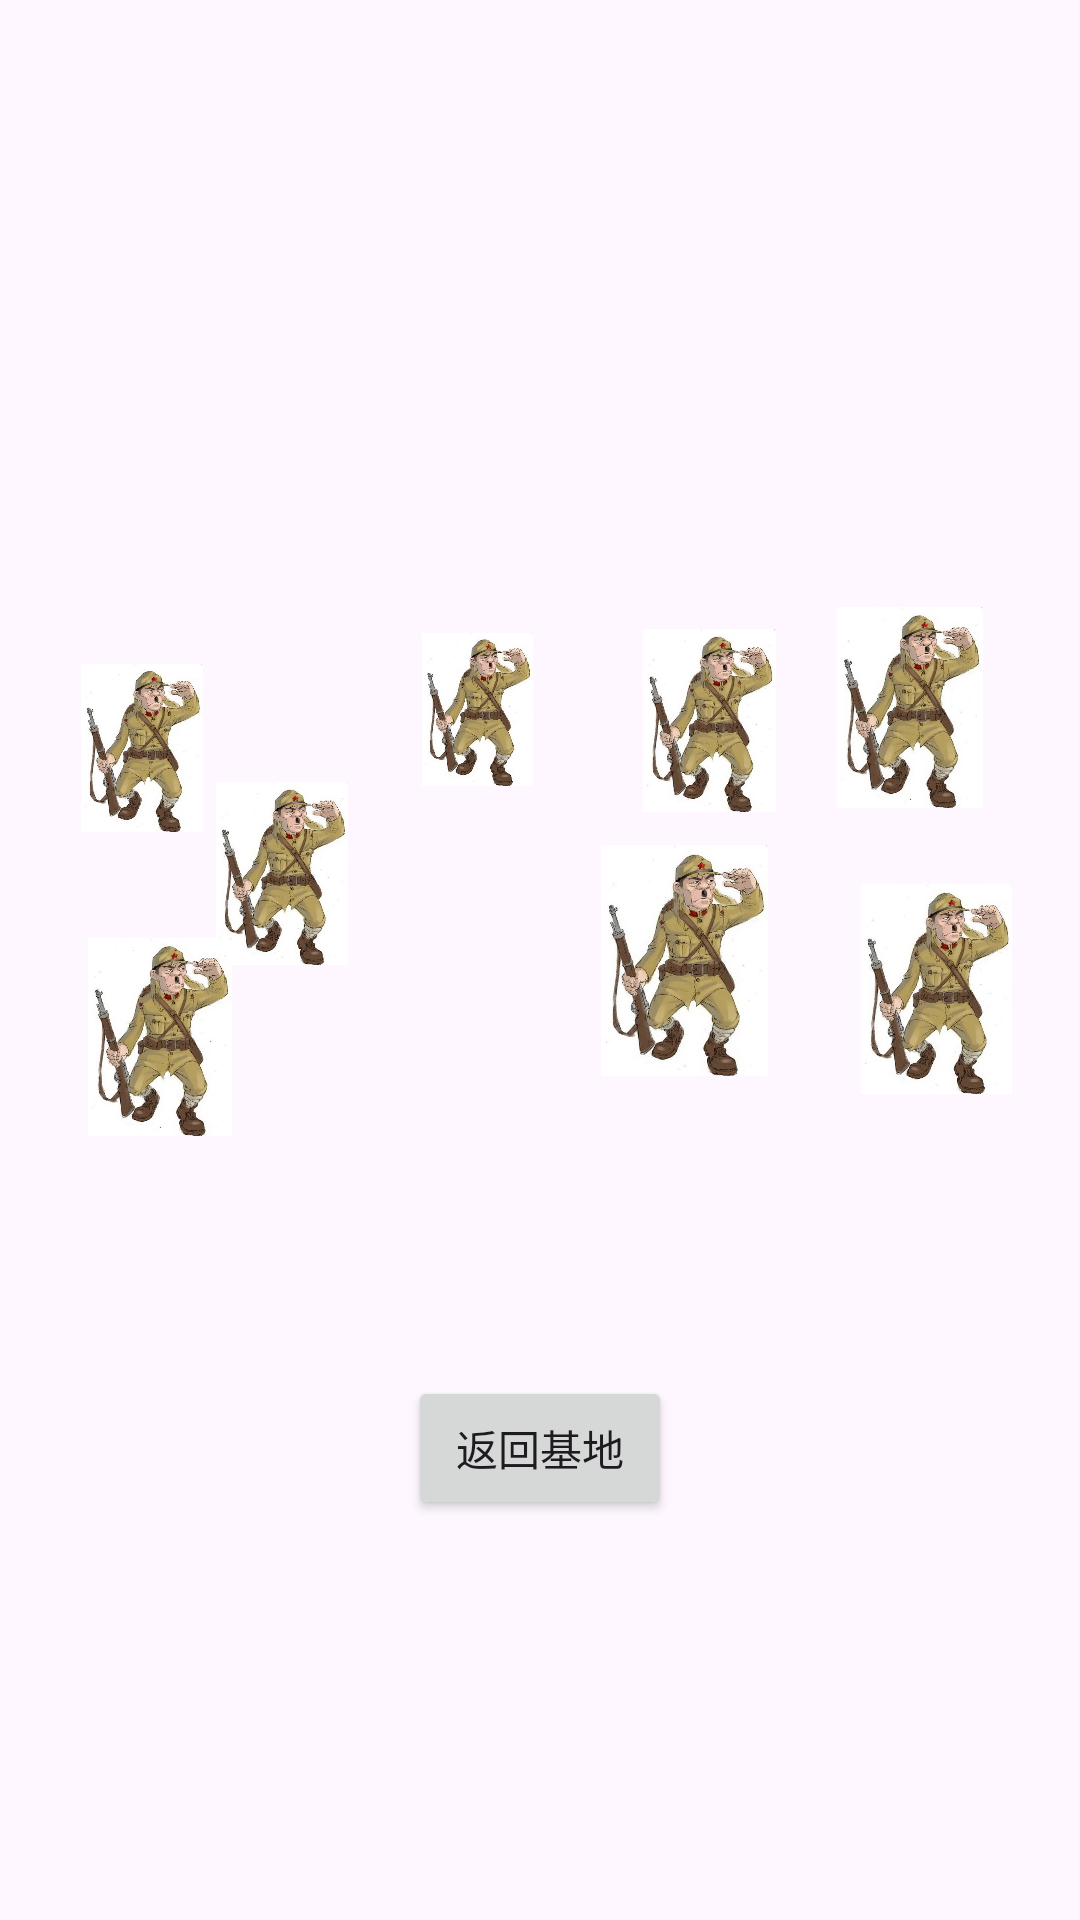

Locate icon controls on the screen. Image size 1080px x 1920px, boxes as bbox(x1, y1, x2, y2).
jap: bbox(844, 607, 982, 808), bbox(647, 629, 775, 812), bbox(427, 639, 530, 786), bbox(87, 664, 202, 832), bbox(222, 789, 345, 965), bbox(606, 845, 767, 1076), bbox(865, 893, 1009, 1094), bbox(95, 938, 231, 1136)
